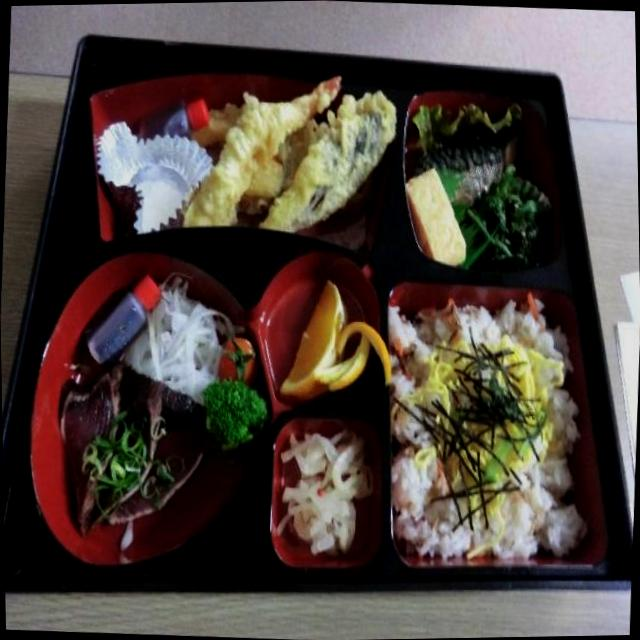Rice: (381, 288, 596, 566)
